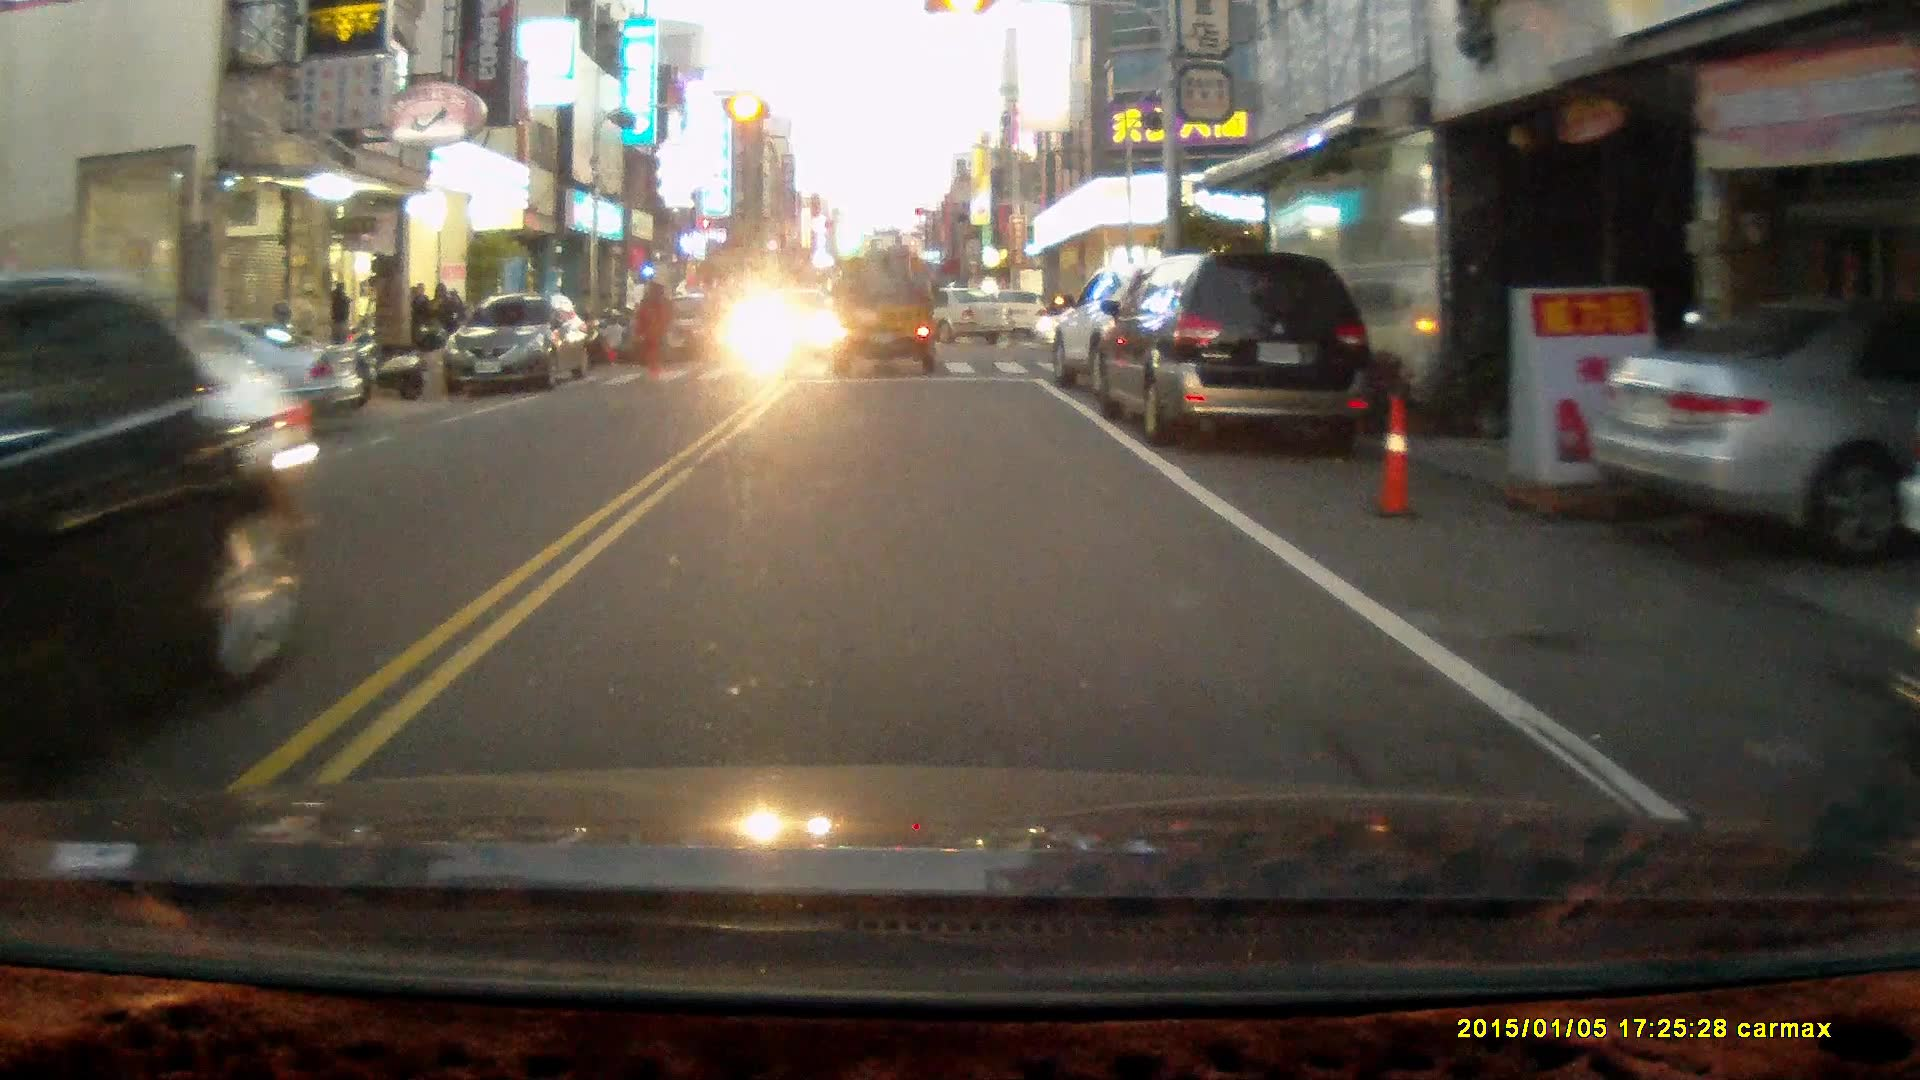pedestrian: (632, 277, 668, 383), (321, 278, 350, 361), (598, 317, 624, 371)
vehicle: (1, 278, 315, 780), (1591, 305, 1920, 537), (1090, 248, 1370, 452), (51, 326, 364, 440), (1050, 266, 1244, 415), (822, 236, 944, 384), (457, 299, 592, 398), (872, 290, 1014, 349), (638, 297, 732, 363)
